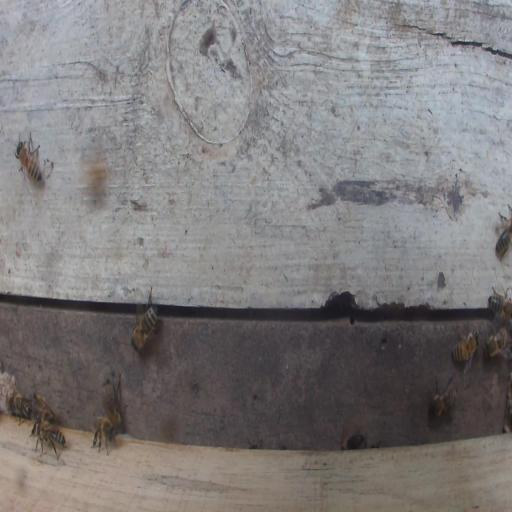bee: (131, 285, 160, 352), (15, 132, 43, 184), (32, 420, 67, 460), (82, 154, 109, 200), (101, 373, 122, 431), (430, 373, 457, 418), (451, 328, 479, 368), (91, 416, 118, 456), (495, 202, 512, 260), (484, 325, 510, 360), (9, 393, 33, 423), (32, 392, 55, 420), (488, 295, 512, 318), (345, 433, 366, 449)
